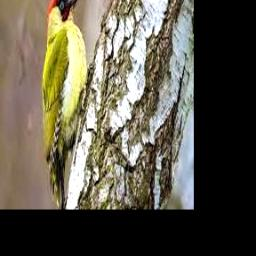Woodpecker: (41, 0, 95, 210)
